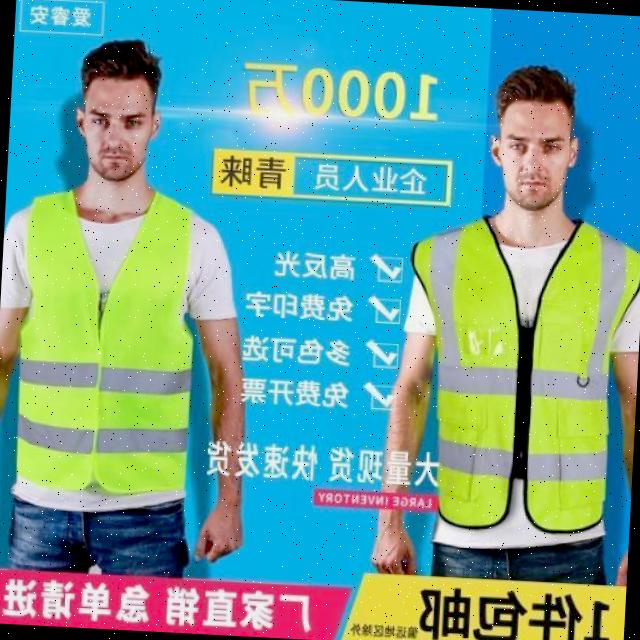vest: (398, 209, 640, 539), (2, 187, 206, 494)
